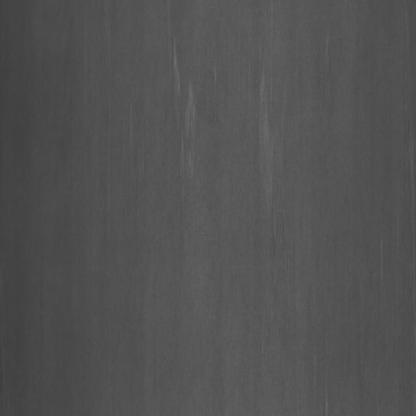silk_spot: (155, 54, 290, 219)
